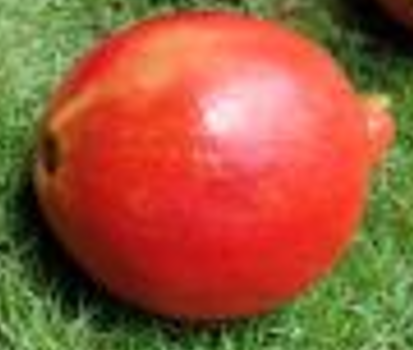pomegranate_A: (32, 10, 399, 322)
